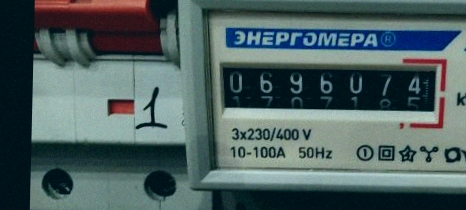0: (225, 68, 244, 92), (347, 69, 363, 94)
4: (405, 70, 421, 93)
5: (405, 95, 422, 111)
6: (318, 68, 335, 95), (257, 69, 274, 93)
7: (377, 71, 394, 96)
9: (287, 68, 303, 95)
screen: (208, 49, 450, 123)
